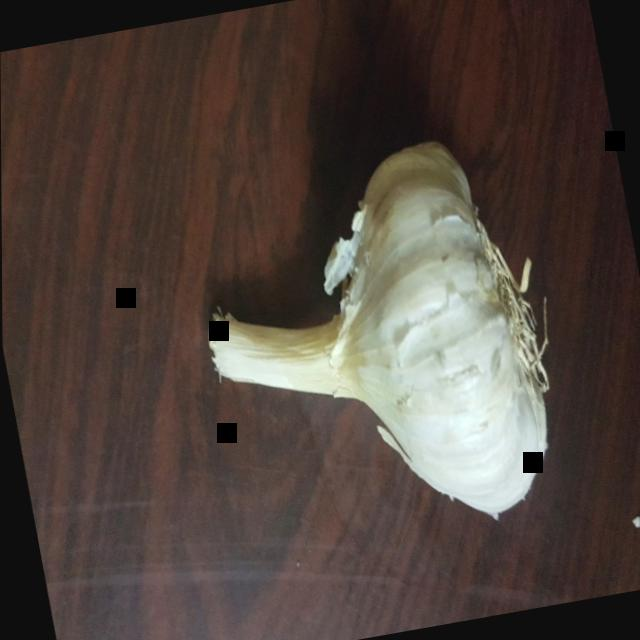garlic: (175, 110, 587, 562)
